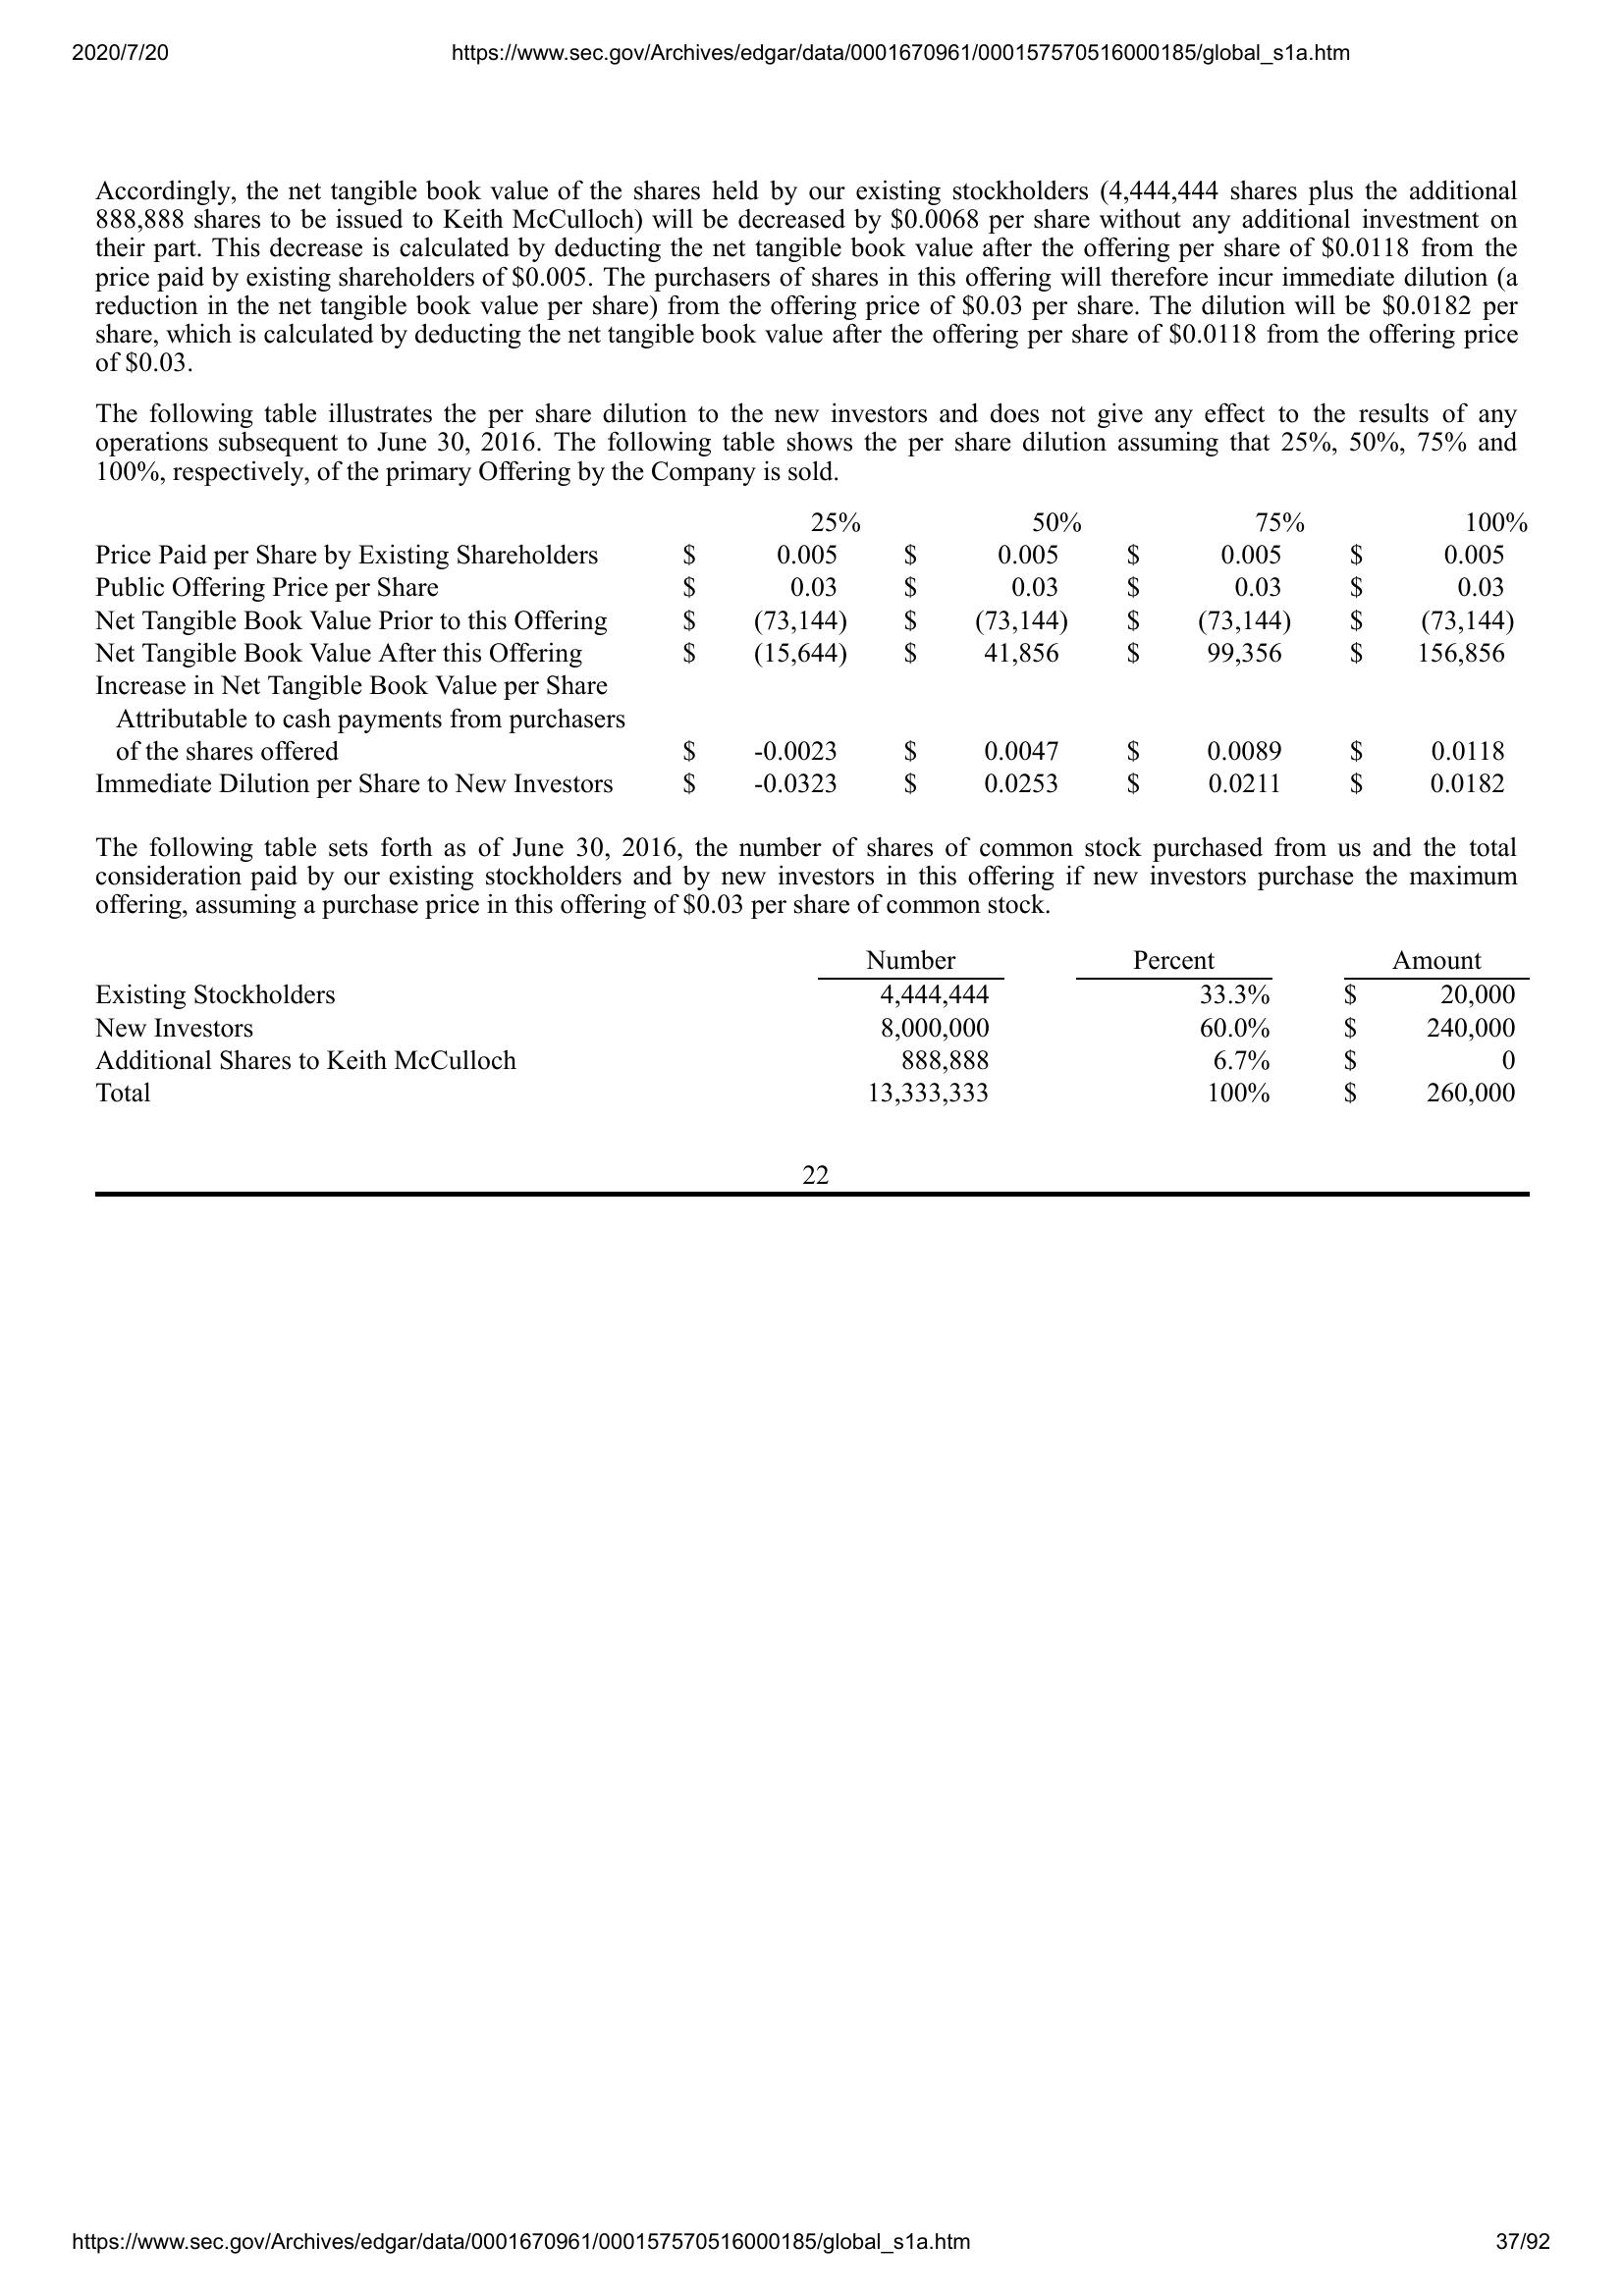table: (86, 502, 1535, 806), (70, 941, 1535, 1129)
